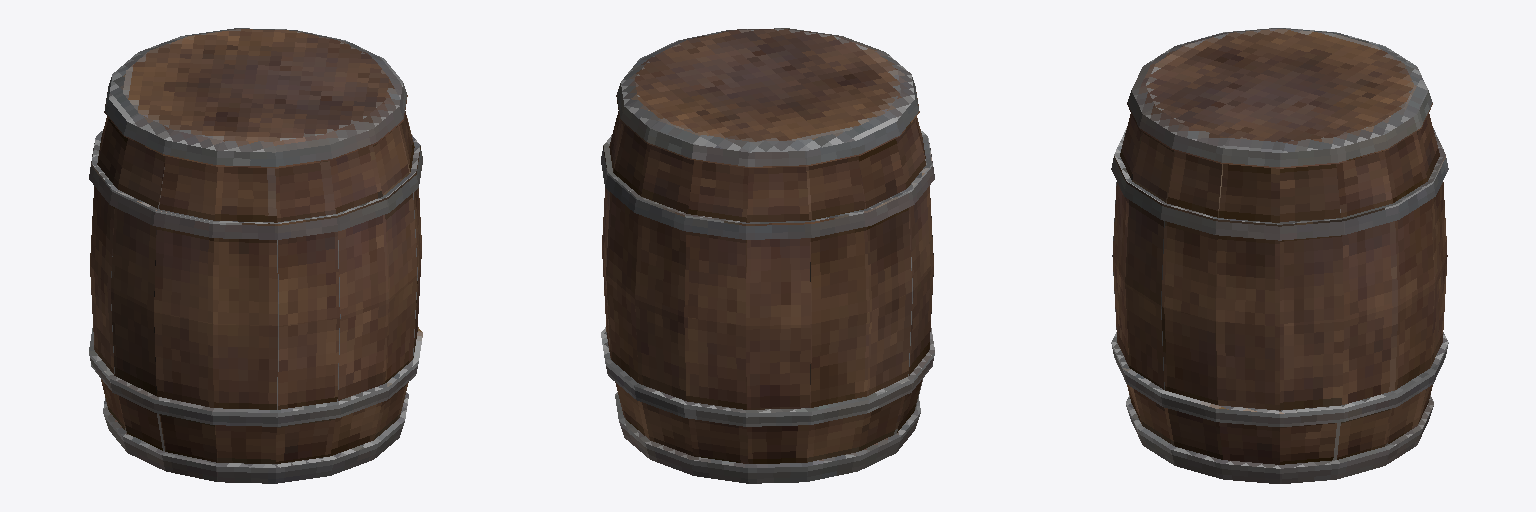
3 renders of one model, left to right at view 1: azimuth 30°, elevation 25°; view 2: azimuth 150°, elevation 25°; view 3: azimuth 270°, elevation 25°, orthographic.
Visible parts, largest first — view 1: Wooden_barrel; view 2: Wooden_barrel; view 3: Wooden_barrel.
Part boxes in pixels (bbox=[...]): Wooden_barrel: bbox=[89, 28, 422, 483]; Wooden_barrel: bbox=[601, 28, 934, 483]; Wooden_barrel: bbox=[1111, 28, 1448, 483].
Bounding box in the file's own units: 0.7998 × 0.8922 × 0.7998.
1 materials, 1 textured.